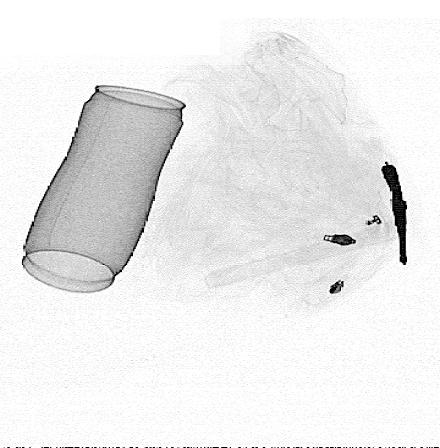Gun: (377, 165, 409, 266)
